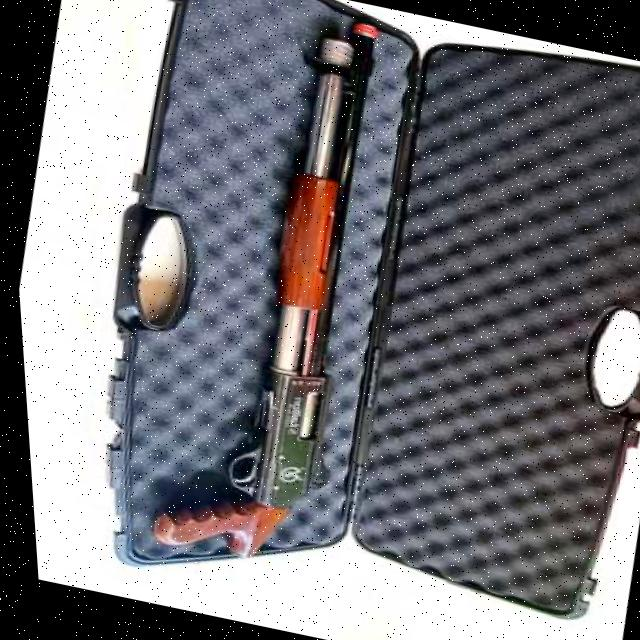firearm: (109, 0, 423, 574)
